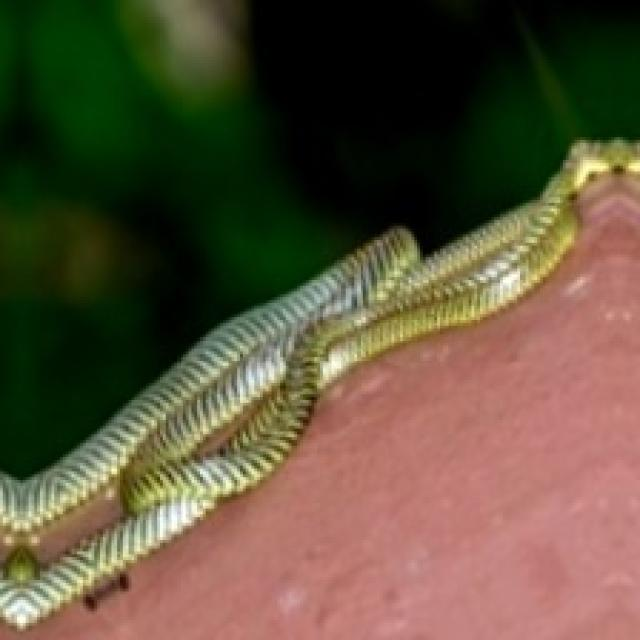paradise tree snake: (0, 140, 637, 637), (300, 291, 531, 443)
